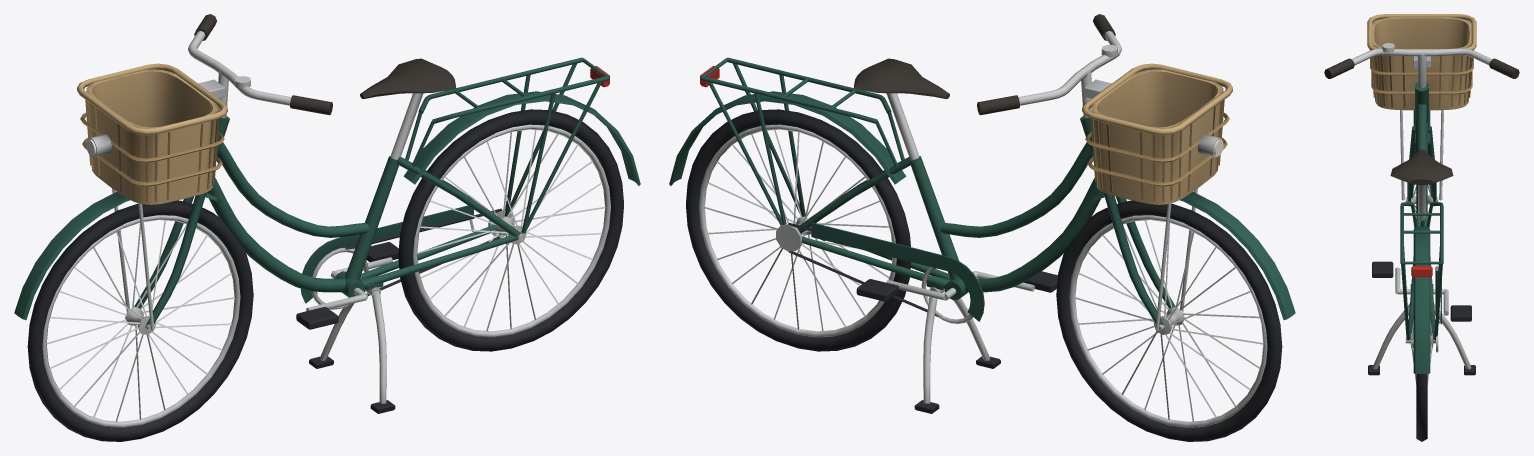
File: bicycle.glb
3 views of the same model, side by side, from view 1: azimuth 30°, elevation 25°; view 2: azimuth 150°, elevation 25°; view 3: azimuth 270°, elevation 25° (orthographic). The views are drawn at different scales.
Visible parts, largest first — view 1: frame, wheel_front, wheel_rear, cranks, stand; view 2: frame, wheel_front, wheel_rear, cranks, stand; view 3: frame, cranks, wheel_rear, stand, wheel_front.
Part boxes in pixels (x1,y1,x2,y2): frame: [14, 14, 640, 330]; wheel_front: [27, 200, 253, 441]; wheel_rear: [398, 109, 623, 351]; cranks: [296, 242, 398, 329]; stand: [309, 287, 395, 413]; frame: [669, 14, 1295, 330]; wheel_front: [1056, 200, 1282, 441]; wheel_rear: [686, 109, 911, 351]; cranks: [856, 267, 1057, 324]; stand: [914, 287, 1000, 413]; frame: [1324, 14, 1519, 373]; cranks: [1372, 261, 1471, 321]; wheel_rear: [1405, 319, 1435, 441]; stand: [1368, 303, 1475, 375]; wheel_front: [1405, 184, 1438, 227].
Bounding box in the file's own units: 1.84 × 1.01 × 0.6448.
